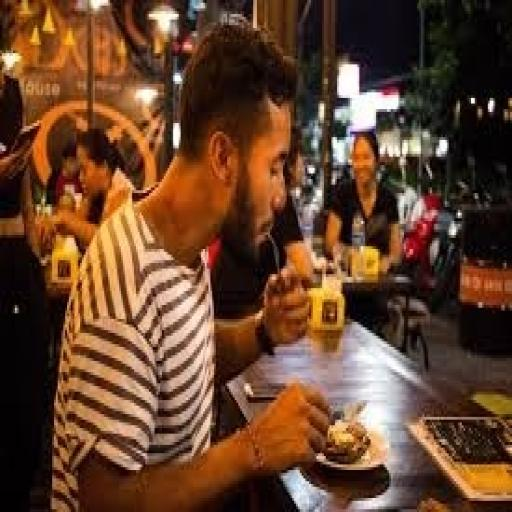eating: (47, 17, 333, 509)
